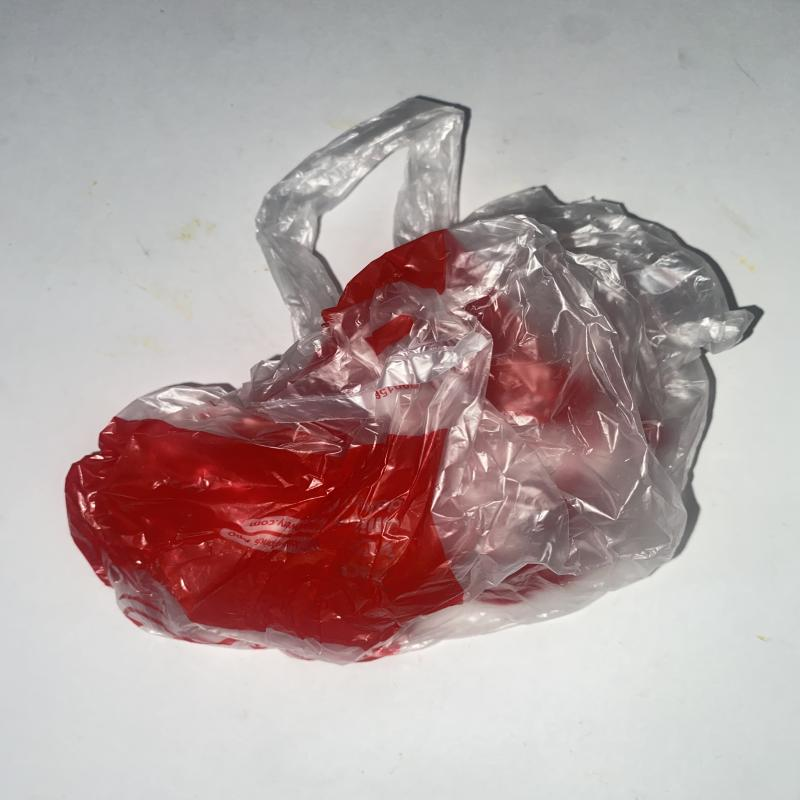plastic bag: (64, 96, 765, 668)
